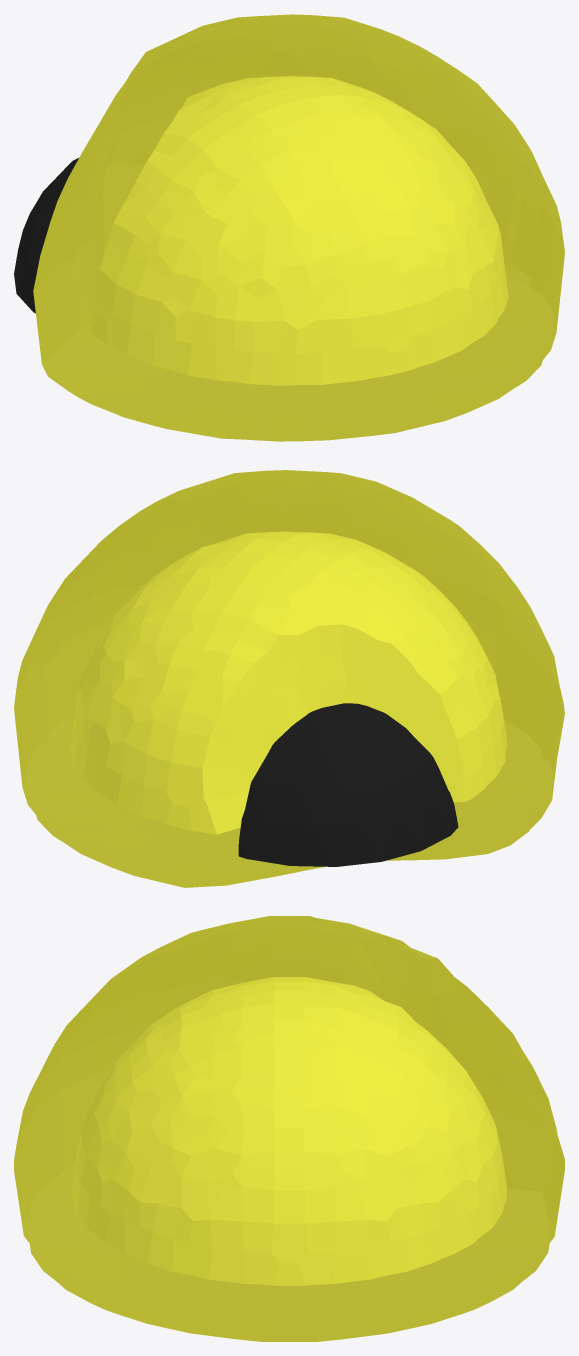
File: shinyladybug.glb
The picture shows the model from 3 angles, top to bottom: view 1: azimuth 30°, elevation 25°; view 2: azimuth 150°, elevation 25°; view 3: azimuth 270°, elevation 25°; orthographic projection.
Parts seen in each view (by area): view 1: Icosphere, Icosphere.002; view 2: Icosphere, Icosphere.002; view 3: Icosphere.
Part boxes in pixels (x1,y1,x2,y2): Icosphere: (33,14,564,441); Icosphere.002: (14,158,78,313); Icosphere: (14,470,564,887); Icosphere.002: (238,703,458,866); Icosphere: (14,916,564,1341).
Size of the model in its own units: 2.56 by 1.58 by 2.56.
